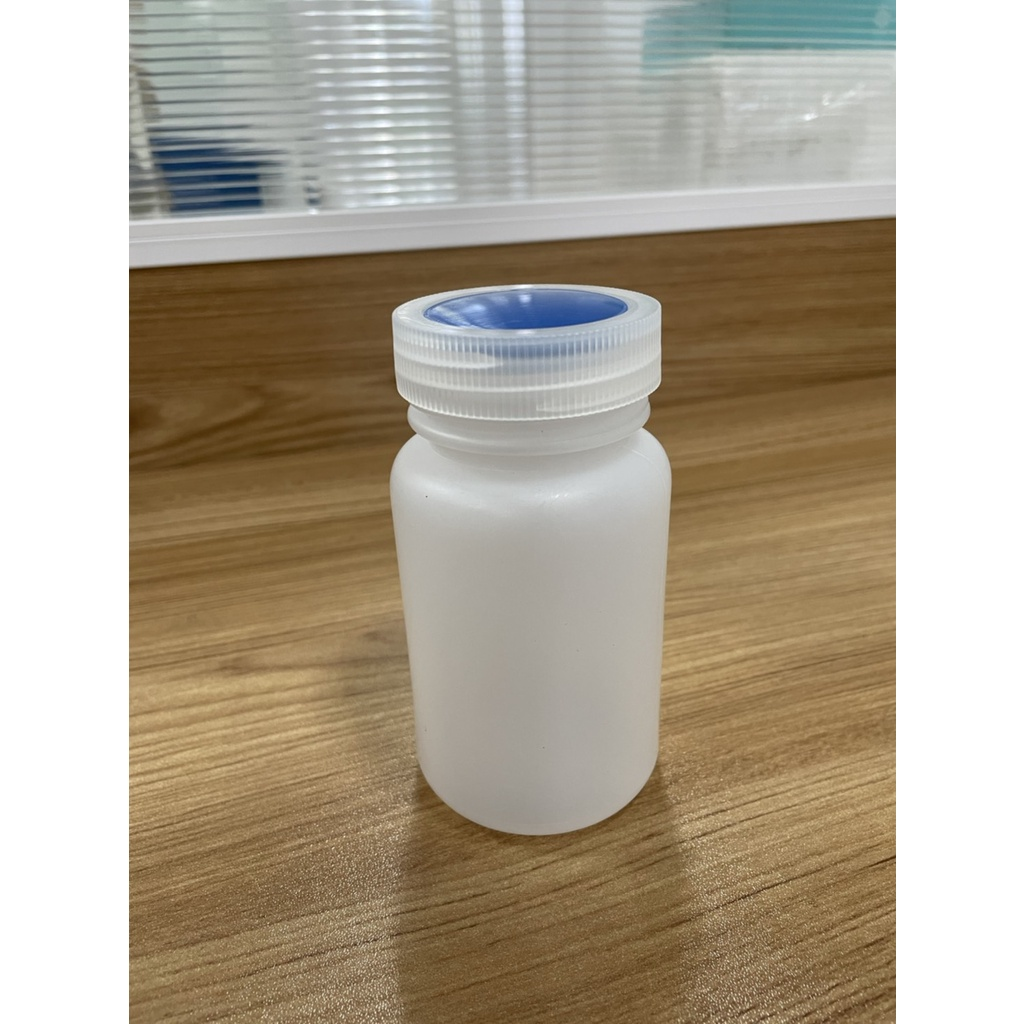medicinejar: (374, 276, 697, 840)
